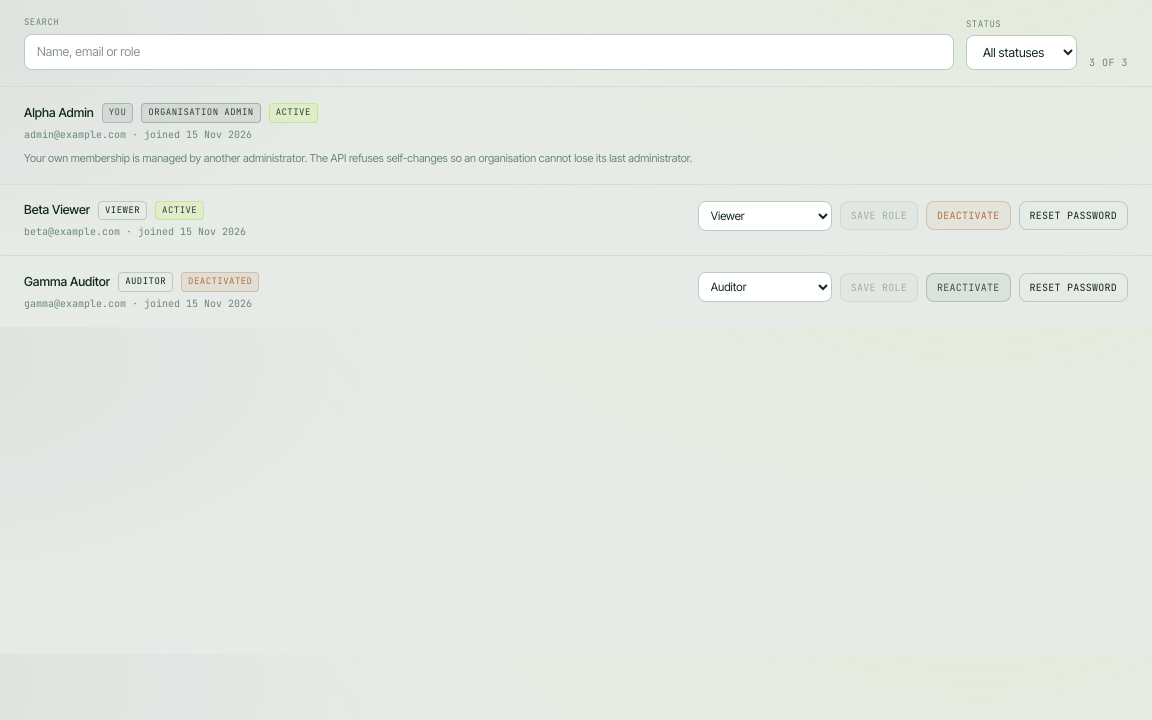
member roster › filters by search term and status
Type "gamma" into the search field named "Search members" at (489, 52), box 24,34 -> 954,70
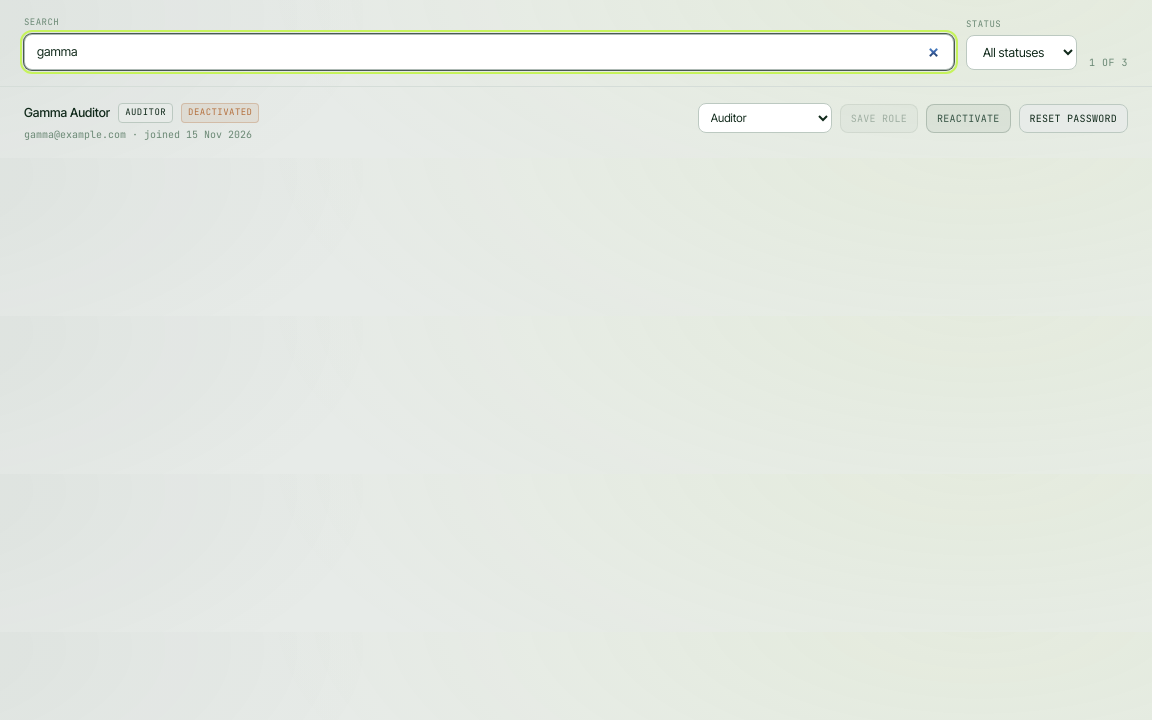
Expected: the text "Gamma Auditor" is shown, 24,104 -> 110,122
Result: the text "Beta Viewer" is gone
Clear the search field named "Search members" at (489, 52), box 24,34 -> 954,70
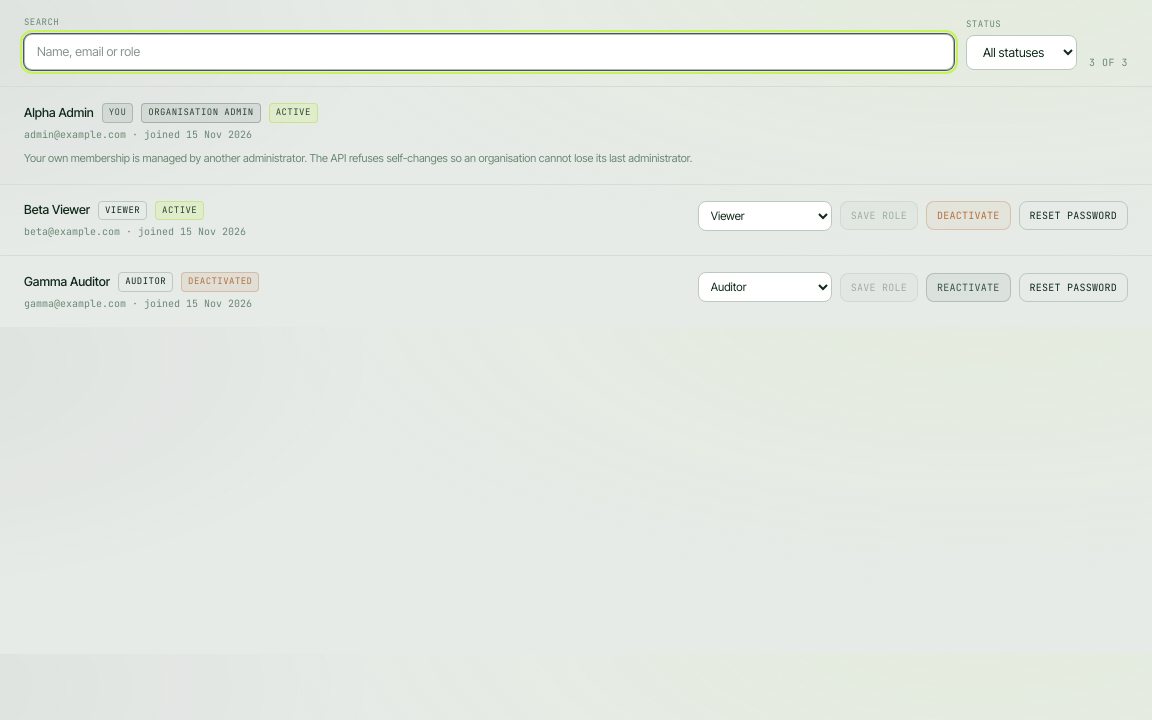
Select "Deactivated" in the dropdown named "Filter by status" at (1022, 53), box 966,35 -> 1077,70
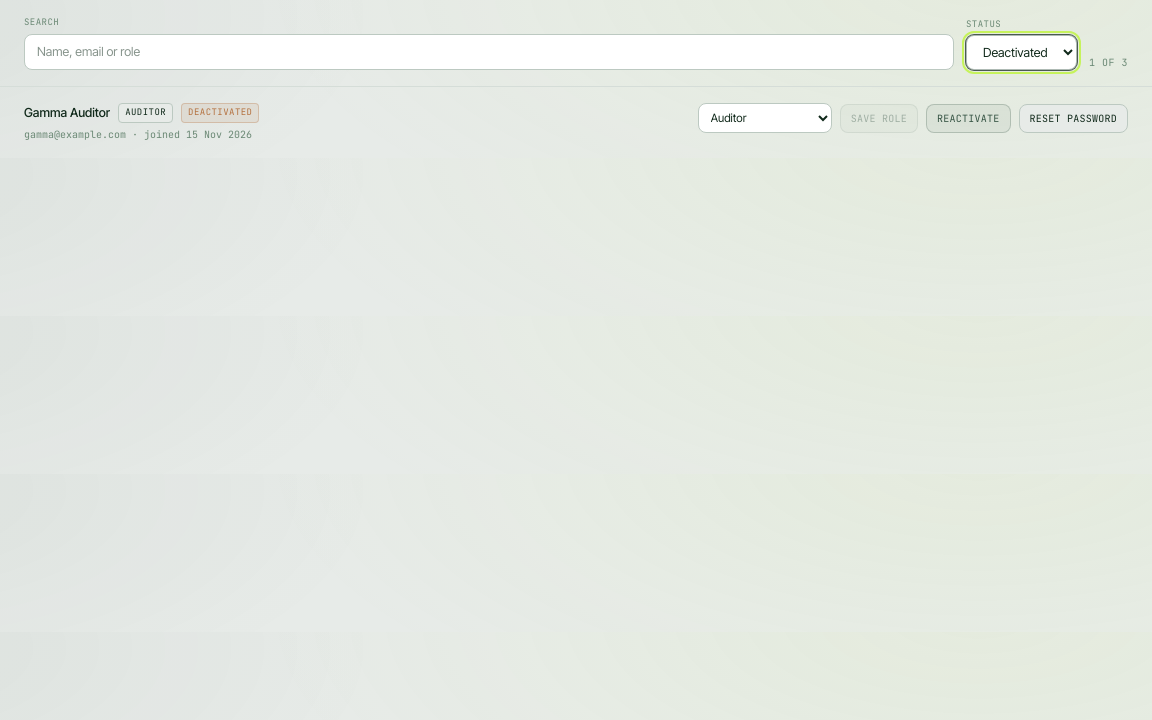
Expected: the text "Gamma Auditor" is shown, 24,104 -> 110,122
Result: the text "Beta Viewer" is gone
